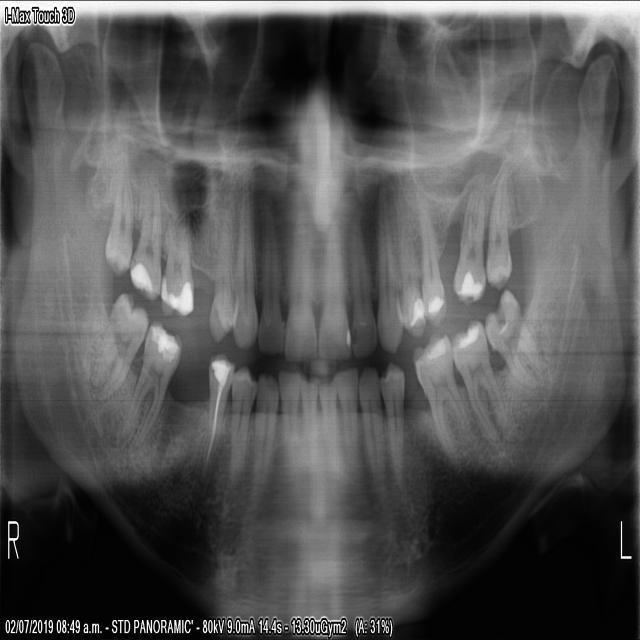LCD: (358, 365, 389, 479)
LCU: (374, 193, 402, 355)
LID: (333, 366, 360, 472), (317, 368, 341, 479)
LIU: (317, 208, 350, 365), (347, 209, 377, 359)
LMD: (449, 316, 518, 448), (480, 281, 548, 397)
LMU: (448, 179, 487, 308), (483, 169, 514, 295)
LPMD: (409, 324, 477, 469), (376, 358, 406, 481)
LPMU: (414, 196, 447, 328), (395, 193, 424, 338)
RCD: (247, 365, 277, 487)
RCU: (231, 191, 256, 351)
RID: (275, 367, 301, 482), (298, 368, 323, 474)
RIU: (280, 188, 317, 367), (255, 200, 284, 354)
RMD: (120, 317, 183, 457), (82, 282, 151, 408)
RMU: (126, 176, 163, 304), (102, 153, 133, 280)
RPMD: (198, 346, 236, 468), (226, 362, 253, 482)
RPMU: (205, 191, 238, 348), (157, 202, 193, 317)
